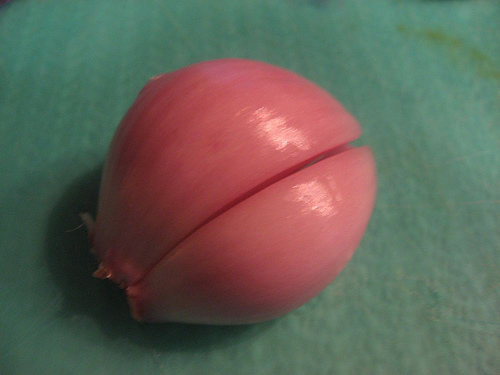onion: (70, 55, 379, 336)
